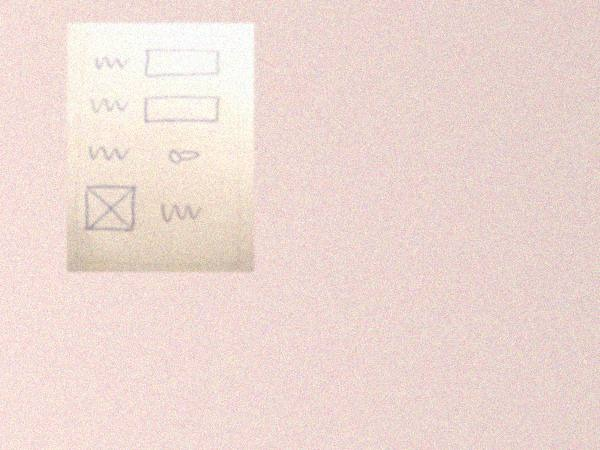image: (82, 183, 141, 236)
switch: (163, 146, 206, 166)
text: (155, 198, 207, 227), (87, 95, 133, 118), (86, 143, 134, 163), (92, 55, 132, 71)
text_input: (140, 45, 224, 81), (141, 93, 225, 127)
